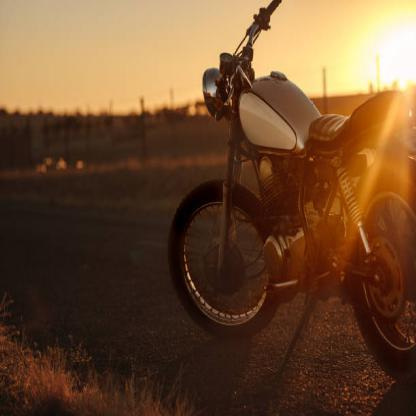Motorcycle: (159, 0, 415, 369)
